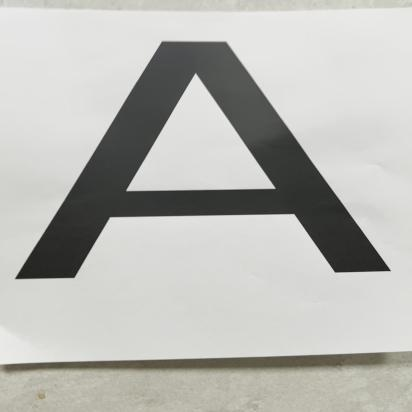seat: (27, 22, 412, 316)
